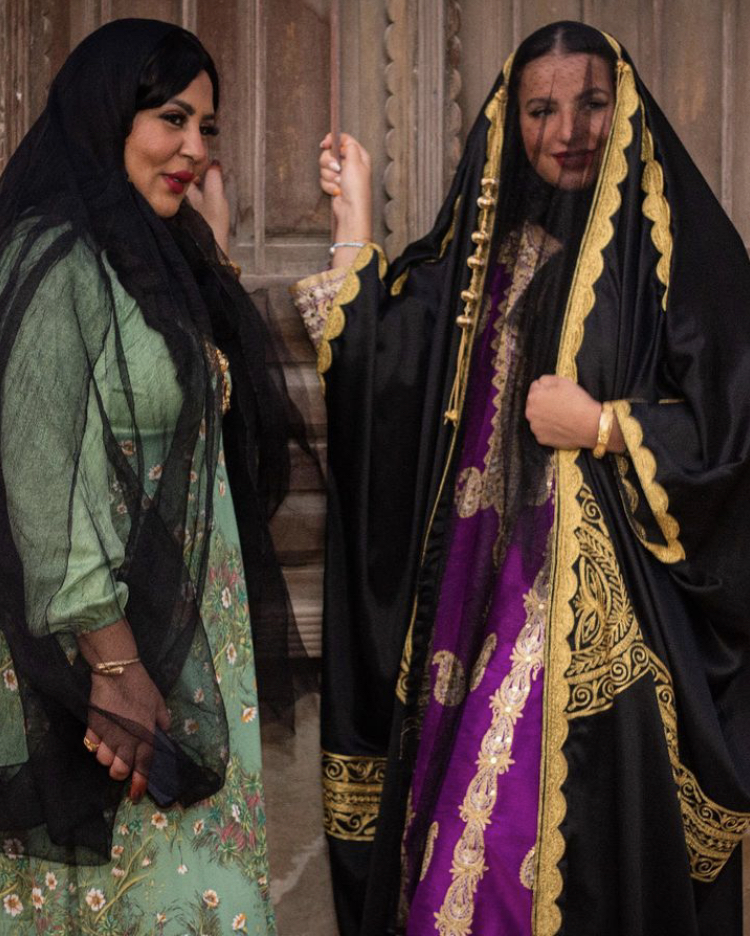Saudi_Founding_Day: (287, 16, 750, 936)
